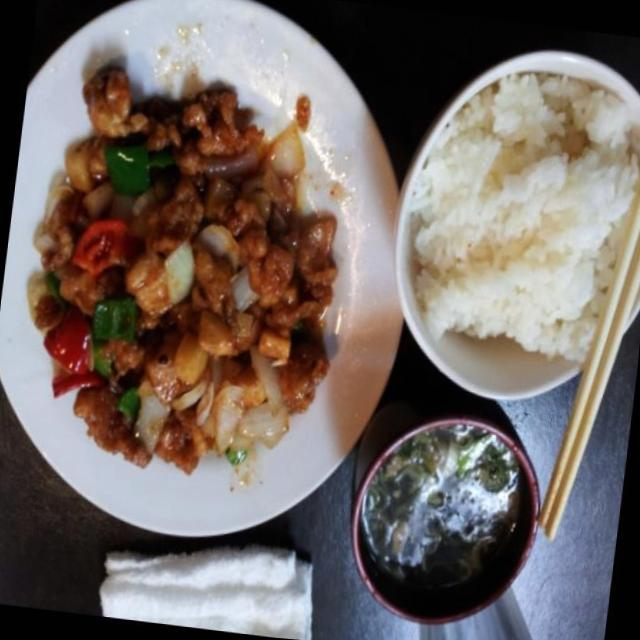Rice: (407, 71, 628, 363)
